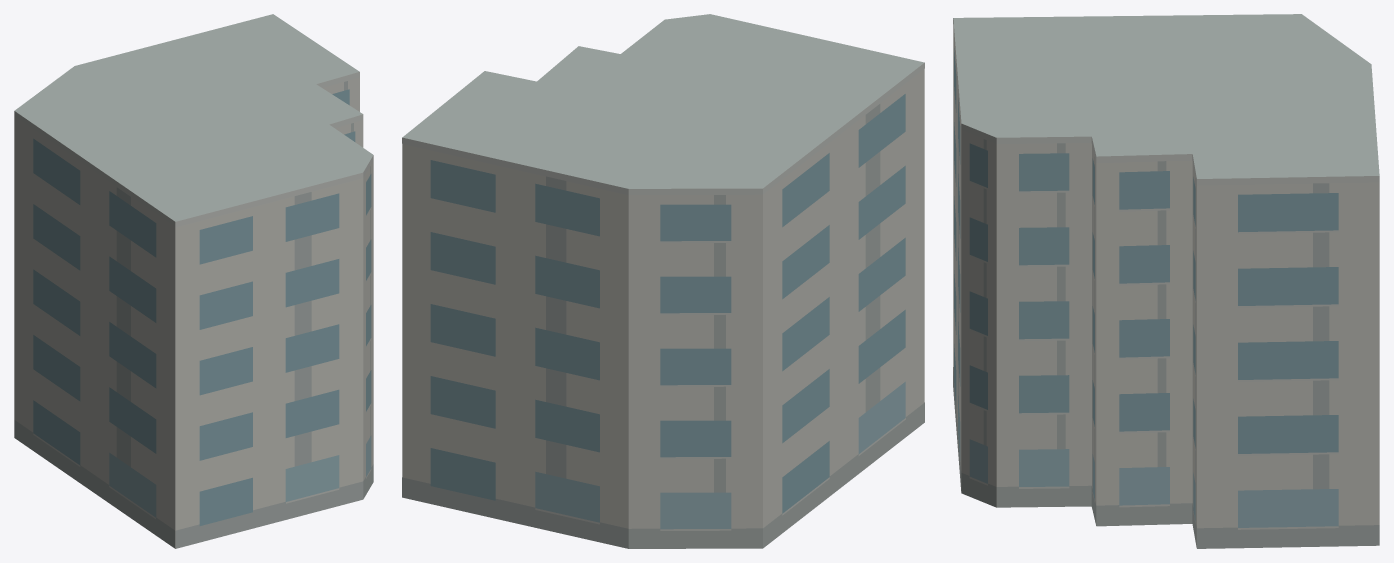
File: survey-upis-32977262.glb
3 renders of one model, left to right at view 1: azimuth 30°, elevation 25°; view 2: azimuth 150°, elevation 25°; view 3: azimuth 270°, elevation 25°, orthographic. The views are drawn at different scales.
Parts seen in each view (by area): view 1: survey-upis-32977262.tmp; view 2: survey-upis-32977262.tmp; view 3: survey-upis-32977262.tmp.
Part boxes in pixels (x1,y1,x2,y2): survey-upis-32977262.tmp: (14,14,373,548); survey-upis-32977262.tmp: (402,14,924,548); survey-upis-32977262.tmp: (953,14,1379,548).
Size of the model in its own units: 13.41 by 14 by 14.64.
